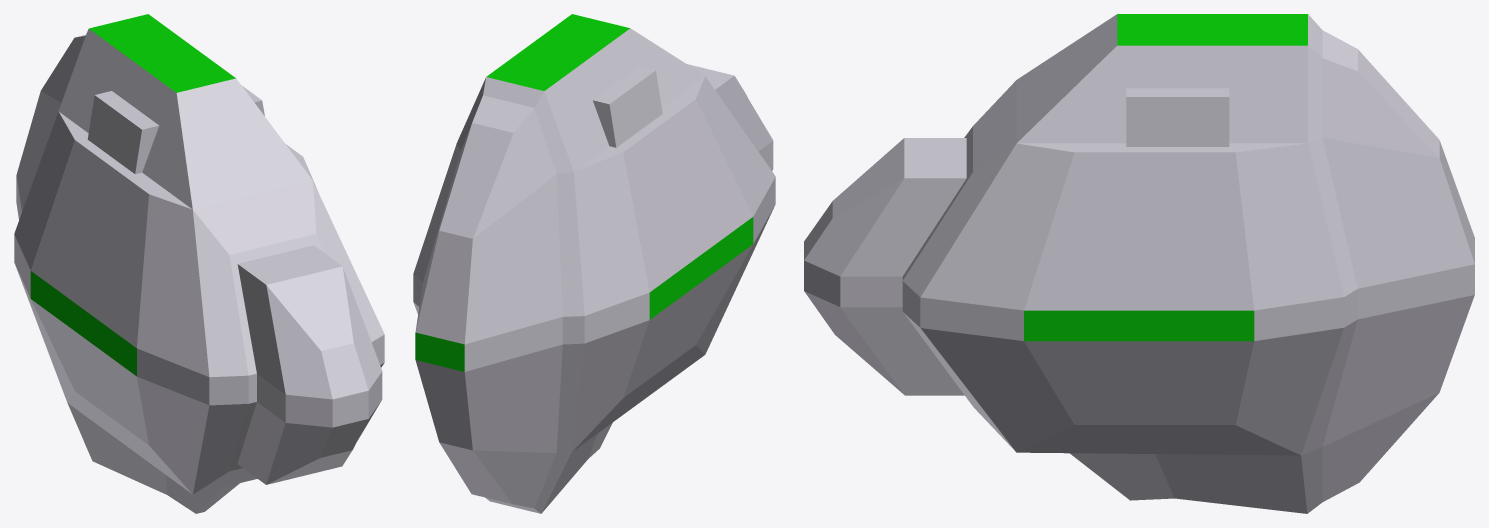
The model's file is eng.body.fish.fbx.
The picture shows the model from 3 angles, left to right: view 1: azimuth 30°, elevation 25°; view 2: azimuth 150°, elevation 25°; view 3: azimuth 270°, elevation 25°; orthographic projection. The views are drawn at different scales.
Parts seen in each view (by area): view 1: eng.body.fish; view 2: eng.body.fish; view 3: eng.body.fish.
Part boxes in pixels (box(x1,y1,x2,y2)): eng.body.fish: box(14, 14, 384, 513); eng.body.fish: box(413, 14, 775, 513); eng.body.fish: box(804, 14, 1474, 513).
Bounding box in the file's own units: 1.65 × 3.04 × 3.93.
